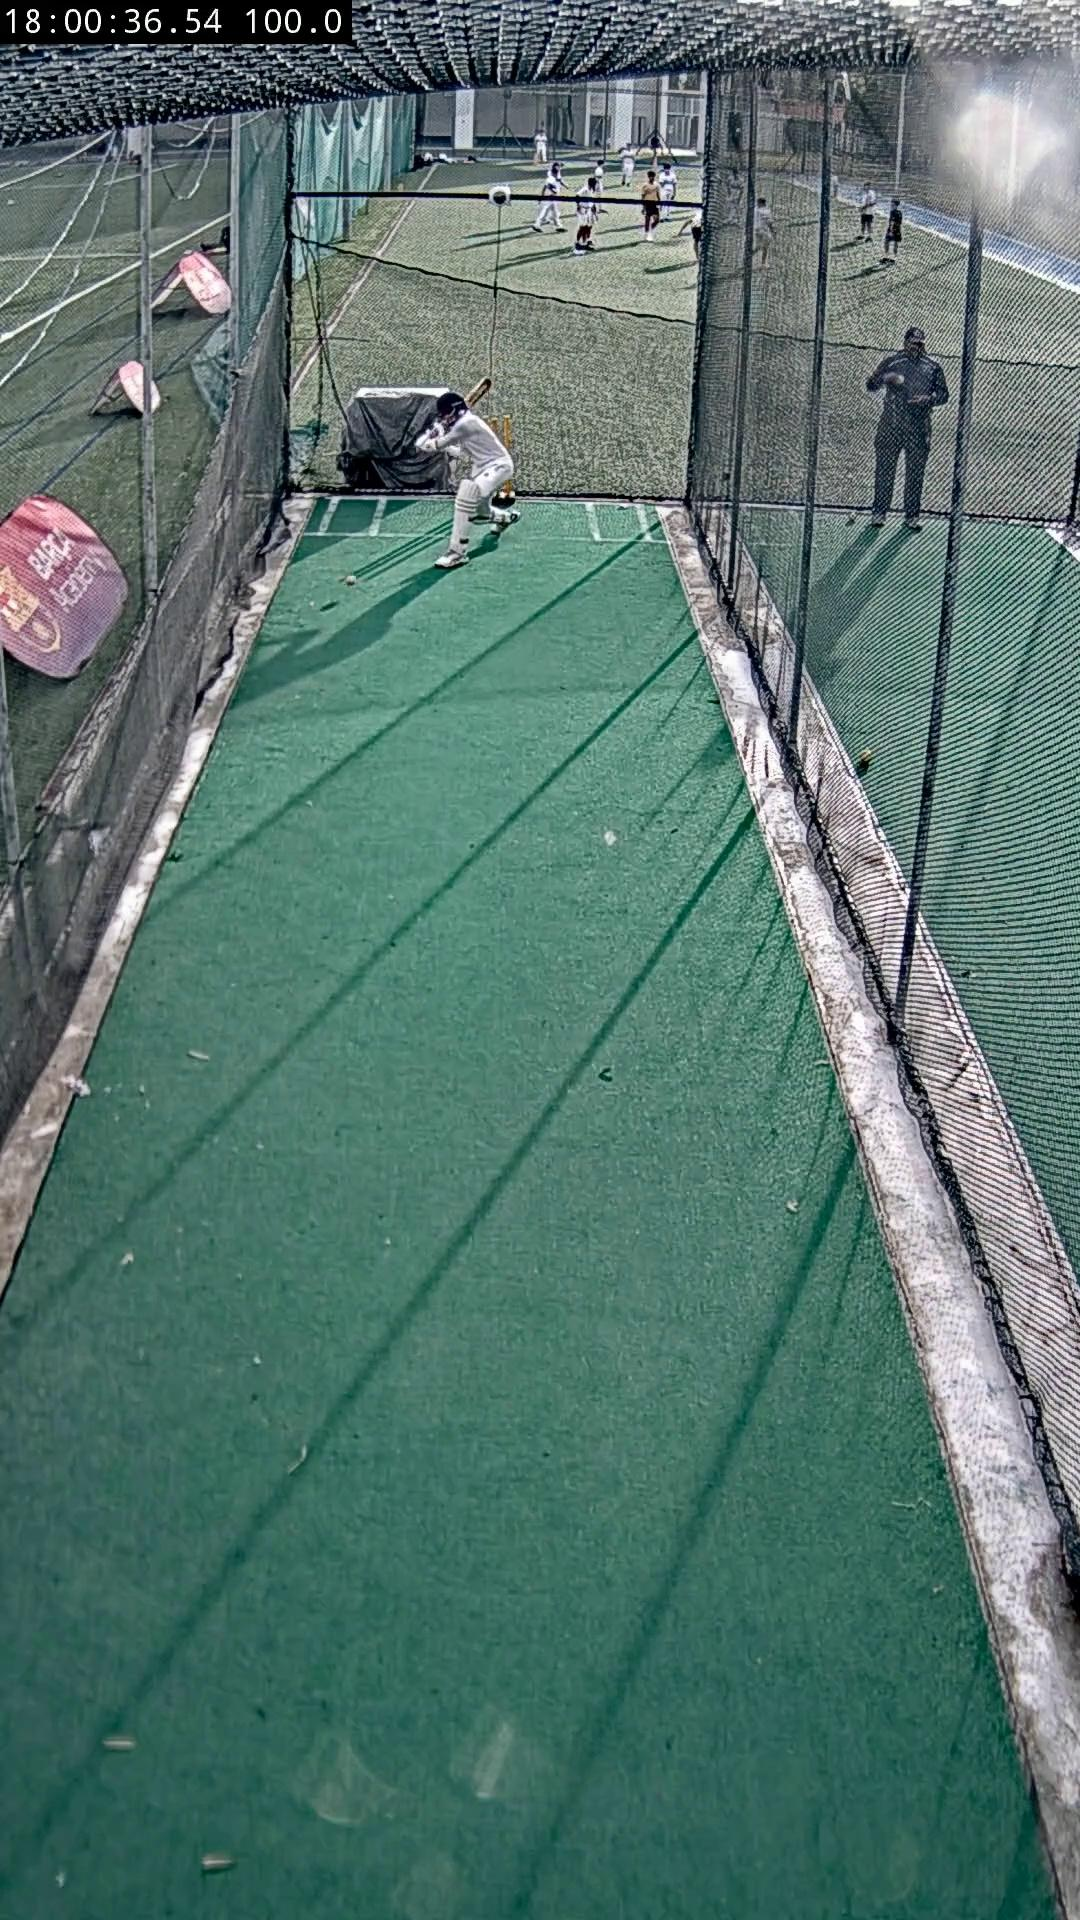ball: (342, 574, 356, 585)
bat: (465, 375, 495, 409)
gloves: (417, 419, 446, 454)
helmet: (435, 390, 468, 417)
pads: (450, 480, 484, 550)
stumps: (489, 417, 514, 450)
